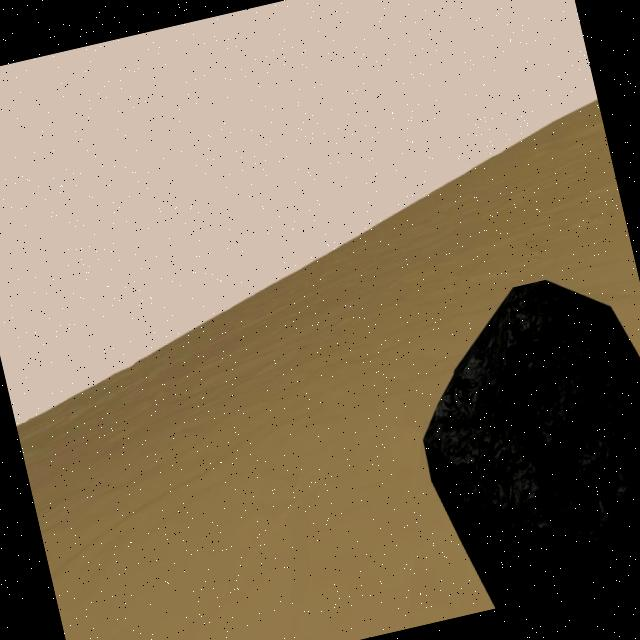rock: (391, 259, 640, 616)
